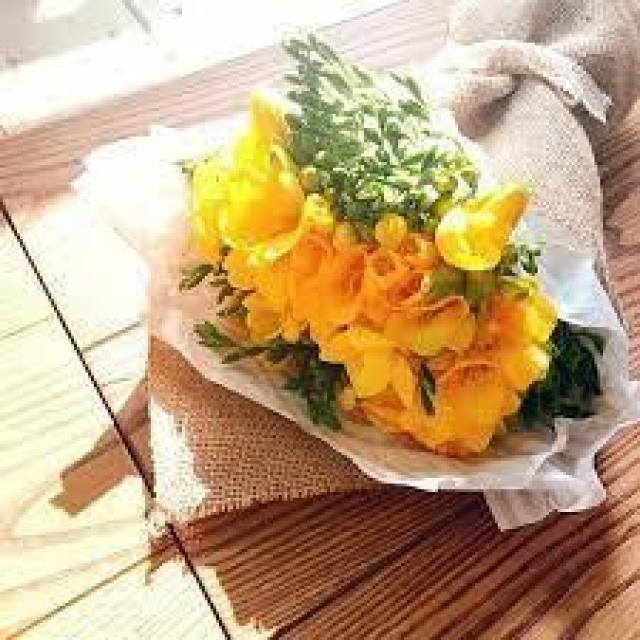freesia: (304, 215, 459, 364), (202, 149, 312, 260)
